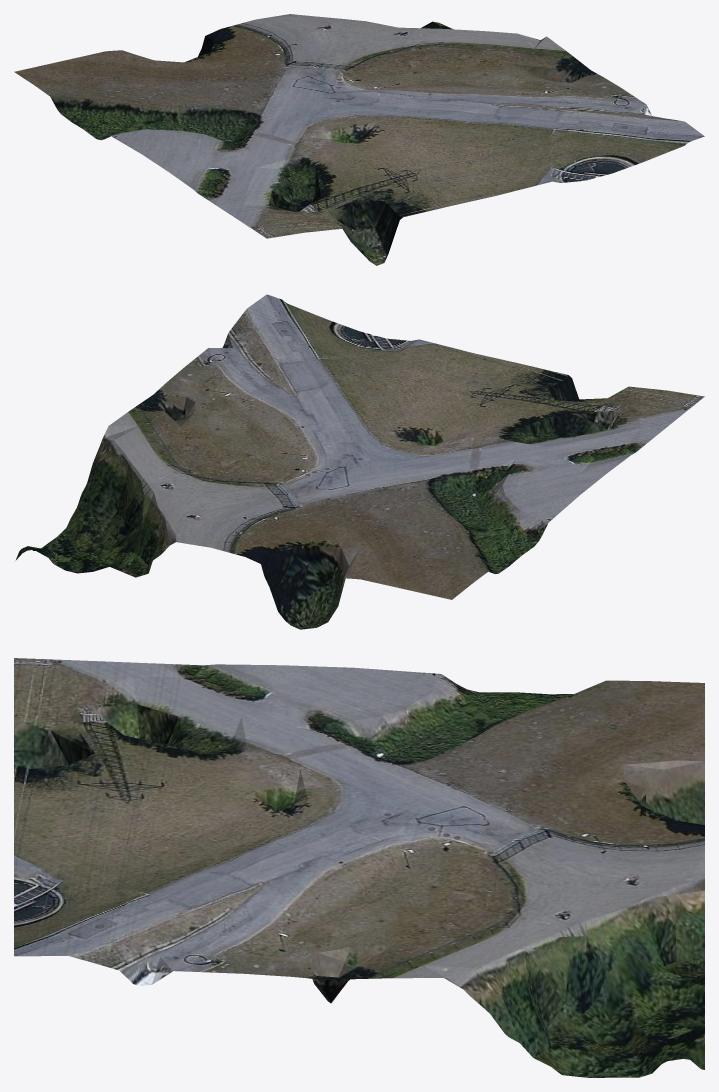
File: map_15_8182_13778.dae
The picture shows the model from 3 angles, top to bottom: view 1: azimuth 30°, elevation 25°; view 2: azimuth 150°, elevation 25°; view 3: azimuth 270°, elevation 25°; orthographic projection. The views are drawn at different scales.
Visible parts, largest first — view 1: Ter0; view 2: Ter0; view 3: Ter0.
Part boxes in pixels (x1,y1,x2,y2): Ter0: (14, 14, 704, 265); Ter0: (15, 294, 704, 629); Ter0: (14, 658, 704, 1077).
Size of the model in its own units: 63.88 by 63.88 by 13.05.
2 materials, 2 textured.
